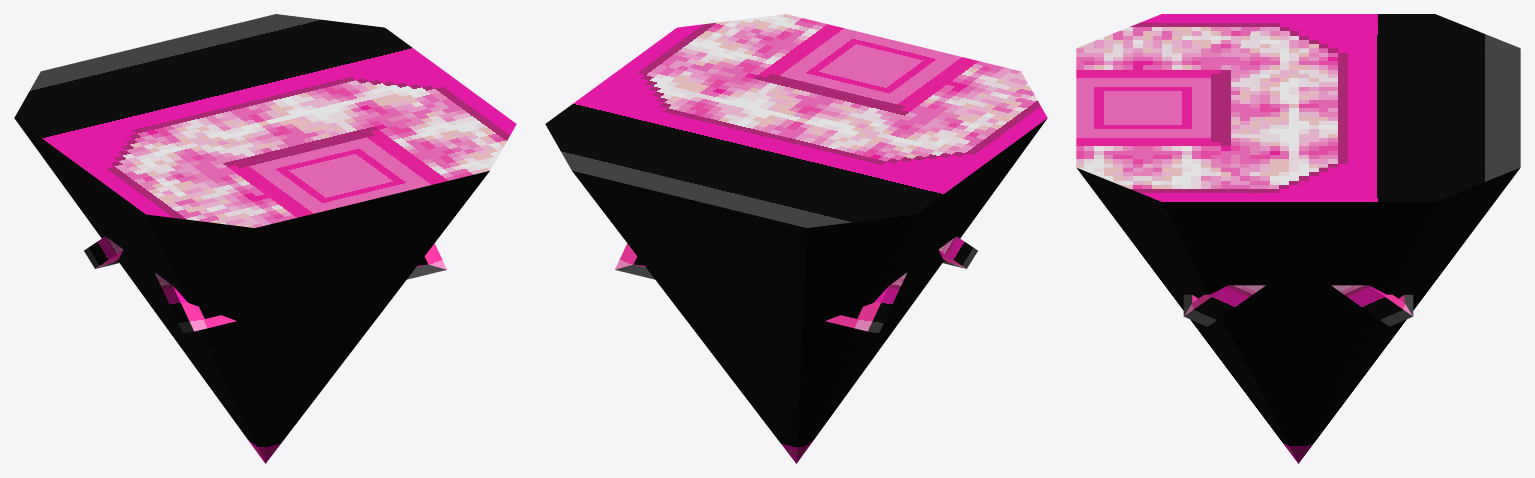
3 renders of one model, left to right at view 1: azimuth 30°, elevation 25°; view 2: azimuth 150°, elevation 25°; view 3: azimuth 270°, elevation 25°, orthographic. The views are drawn at different scales.
Parts seen in each view (by area): view 1: 3595kg_06_ta0; view 2: 3595kg_06_ta0; view 3: 3595kg_06_ta0.
Boxes of the visible parts, x1,y1,x2,y2 form: 3595kg_06_ta0: [14, 14, 516, 463]; 3595kg_06_ta0: [545, 14, 1047, 463]; 3595kg_06_ta0: [1076, 14, 1520, 463].
Size of the model in its own units: 1.95 by 1.72 by 1.95.
1 material, 1 textured.
